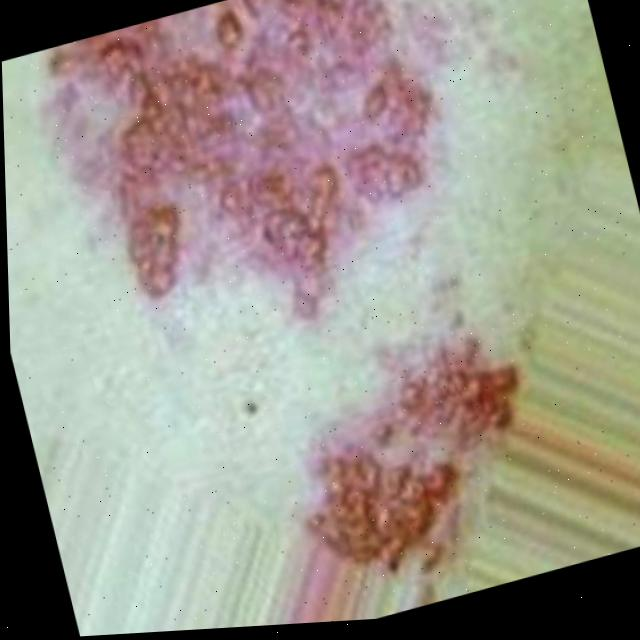Shingles: (39, 0, 477, 350), (264, 322, 559, 607)
